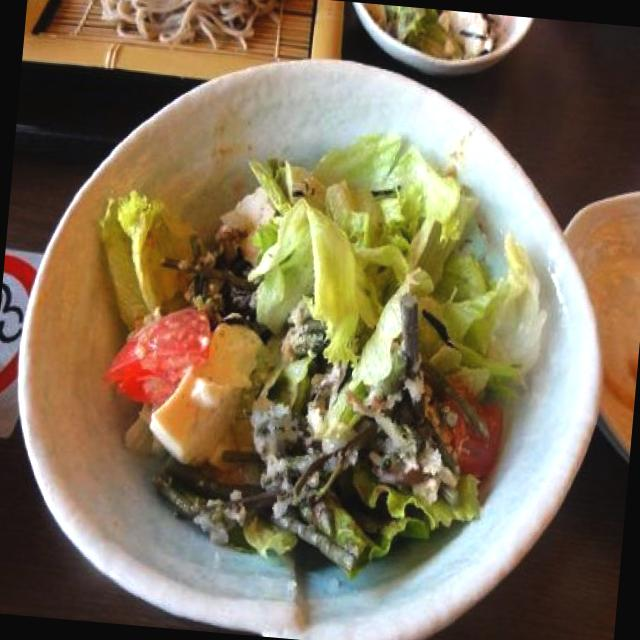Green Salad: (81, 119, 540, 578)
